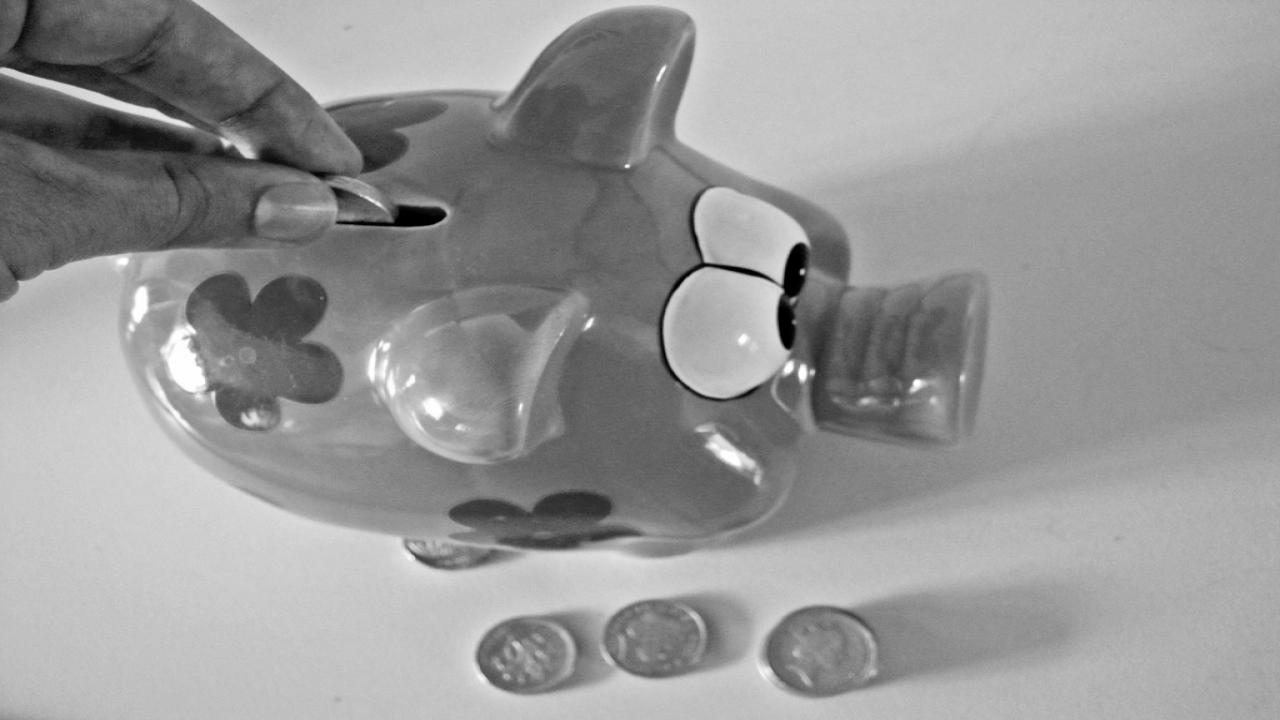coin: (759, 604, 880, 698), (597, 598, 709, 682), (474, 612, 582, 698), (316, 172, 400, 222)
